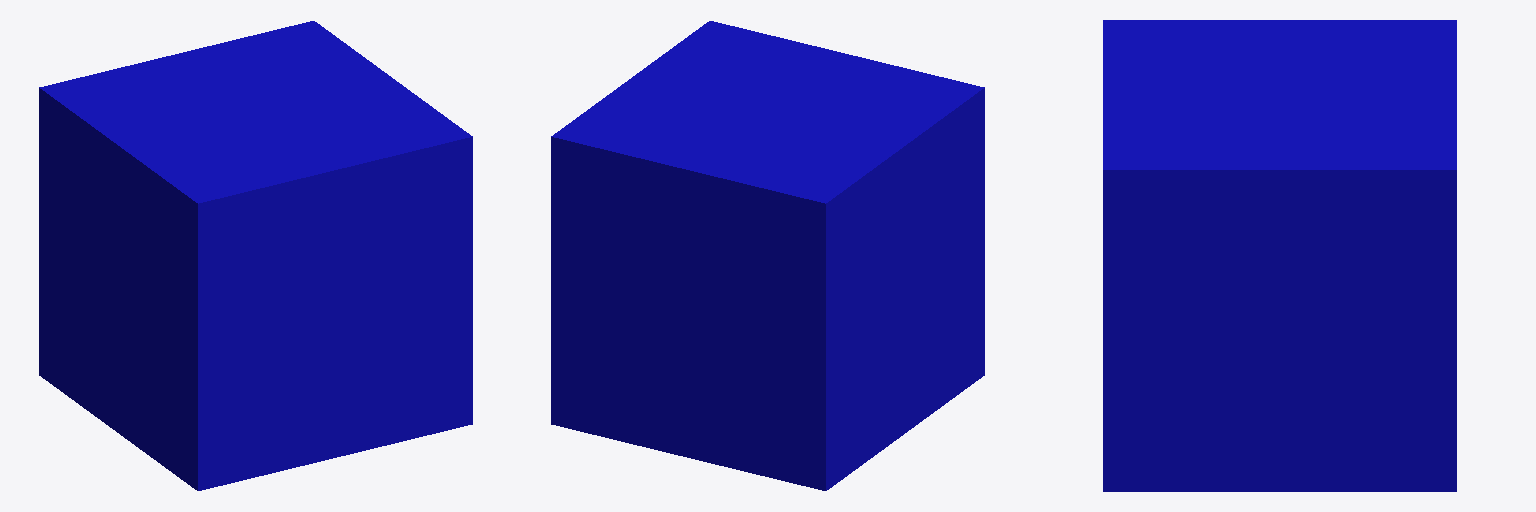
URDF robot description (simple_cuboid):
<?xml version="1.0"?>
<robot name="simple_cuboid">
  <link name="base_link">
    <inertial>
      <origin xyz="0 0 0" rpy="0 0 0" />
      <mass value="0.1" />
      <inertia ixx="0.000363" ixy="0" ixz="0" iyy="0.000363" iyz="0"
          izz="0.00006" />
    </inertial>
    <visual>
      <origin xyz="0 0 0" rpy="0 0 0" />
      <geometry>
        <box size="0.05 0.05 0.05" />
      </geometry>
      <material name="red">
        <color rgba="0.1 0.1 0.8 1" />
      </material>
    </visual>

    <!--
      This places contact spheres on the corners of the visual box and a
      *slightly* smaller inset contact box (centered on the visual origin). This
      accounts for issues in the contact computation providing stable table
      contact *and* supports grasping.

      When the box is in stable contact with the ground plane, the corner
      spheres will provide fixed contact points (simulating distributed contact
      points around the face).  However, for arbitrary grip configuration, the
      slightly inset box will provide contact with a *slight* offset (in this
      case a deviation of 0.0005 m from the visual surface).

      https://github.com/RobotLocomotion/drake/issues/6254 tracks the
      difficulty in supporting face-to-face contact.
     -->
    <collision>
      <geometry>
        <box size="0.05 0.05 0.05" />
      </geometry>
    </collision>
   </link>
</robot>

--- Facts derived from the render (not from the file) ---
The picture shows the robot from 3 angles, left to right: view 1: azimuth 30°, elevation 25°; view 2: azimuth 150°, elevation 25°; view 3: azimuth 270°, elevation 25°; orthographic projection.
Robot: simple_cuboid — 1 links, 0 joints (none); root link base_link; default pose: all joints at 0.
Links seen in each view (by area): view 1: base_link; view 2: base_link; view 3: base_link.
Link boxes in pixels (<box>): base_link: <box>39,21,472,490</box>; base_link: <box>551,21,984,490</box>; base_link: <box>1103,20,1456,491</box>.
Size in the robot's own frame: 0.05 by 0.05 by 0.05 metres.
Geometry: primitives only (box / cylinder / sphere), no mesh files.